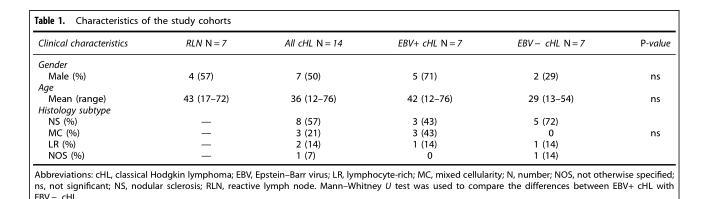table: (37, 36, 669, 160)
table column: (488, 36, 611, 160), (369, 36, 488, 160), (37, 36, 154, 160), (255, 36, 369, 160), (154, 36, 255, 160), (611, 36, 669, 160)
table column header: (37, 36, 669, 53)
table projected row header: (37, 53, 669, 69), (37, 80, 669, 92), (37, 103, 669, 115)
table row: (37, 36, 669, 53), (37, 53, 669, 69), (37, 80, 669, 92), (37, 103, 669, 115), (37, 137, 669, 149), (37, 69, 669, 80), (37, 92, 669, 103), (37, 115, 669, 126), (37, 126, 669, 137), (37, 149, 669, 160)
